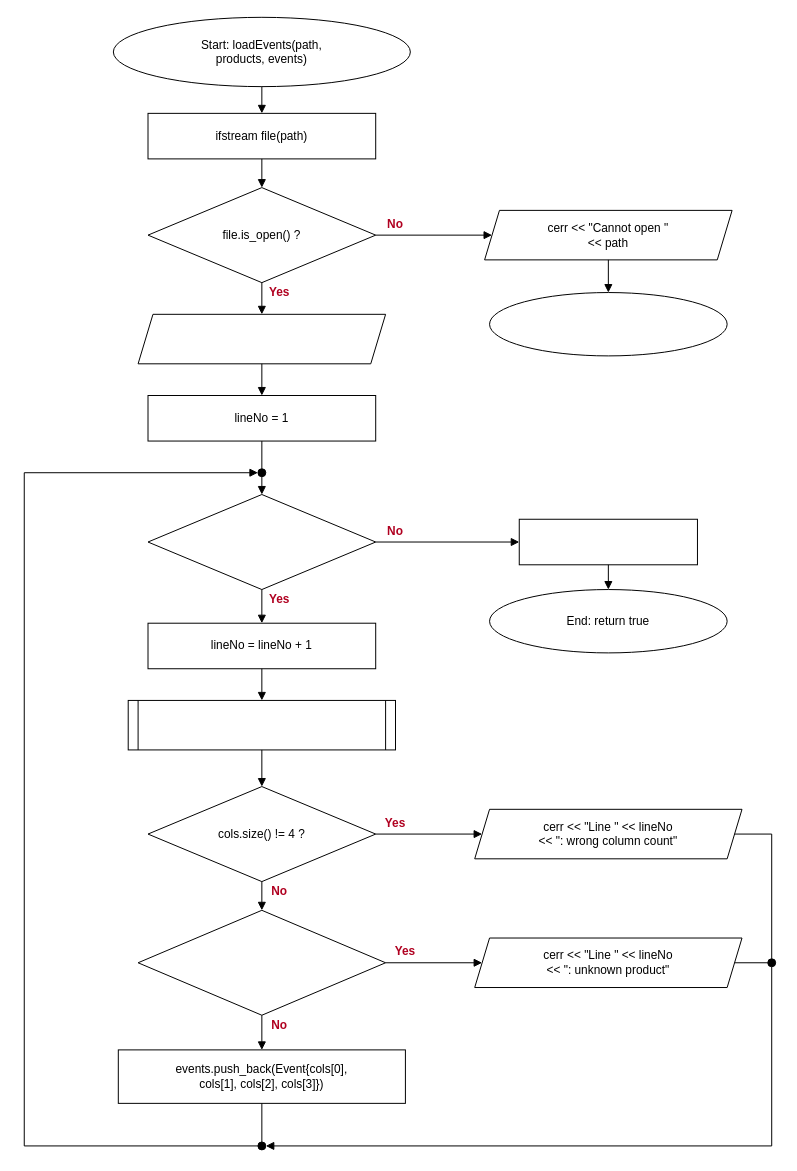
Some shapes in this 797 by 1171 pixel diagram are drawn without their labels. The centre of each missing label's shape, as x and y in pixels:
"End: return false" belongs at (608,324).
"file.close()" belongs at (607,541).
"findProduct(products, cols[3]) == -1 ?" belongs at (261,962).
"getline(file, line) // skip header" belongs at (261,338).
"getline(file, line) ?" belongs at (261,542).
"splitCsv(line, cols)" belongs at (261,724).
